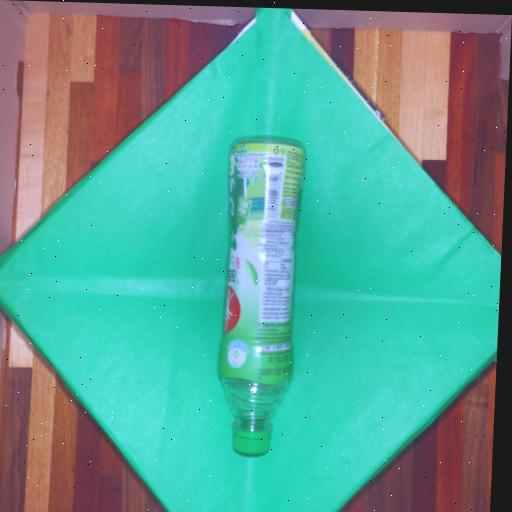bottle: (183, 113, 322, 480)
